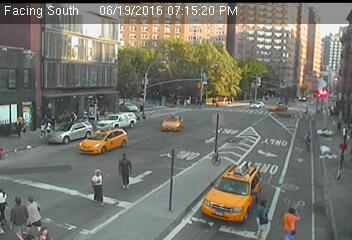neg: (315, 73, 331, 95), (180, 21, 196, 42), (192, 74, 207, 95), (301, 131, 315, 149), (297, 23, 311, 41), (223, 29, 237, 46), (233, 162, 245, 178), (156, 167, 168, 183), (75, 52, 87, 68), (179, 115, 191, 130), (149, 112, 160, 127), (166, 78, 177, 93), (142, 32, 152, 44), (212, 114, 220, 125), (264, 30, 272, 41)
pos: (109, 151, 139, 191), (1, 195, 31, 235), (247, 198, 277, 237), (16, 192, 45, 231), (80, 166, 109, 203), (280, 206, 304, 238), (11, 119, 25, 137), (42, 120, 54, 135), (36, 122, 47, 137), (36, 225, 47, 239), (300, 103, 310, 117)
